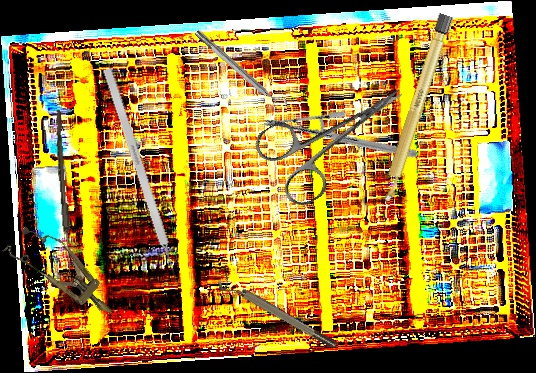Fixation Ring: (214, 271, 340, 357), (190, 24, 290, 116)
Hook Surgical: (102, 67, 183, 287)
Iris Scissors: (249, 57, 427, 213)
Needle Holder: (262, 79, 418, 197)
Scalpel Handle: (378, 12, 454, 205)
Speculum: (1, 215, 127, 331)
Surgical Spoon: (52, 109, 75, 275)
